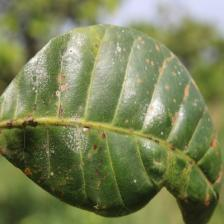red rust: (0, 22, 223, 223)
